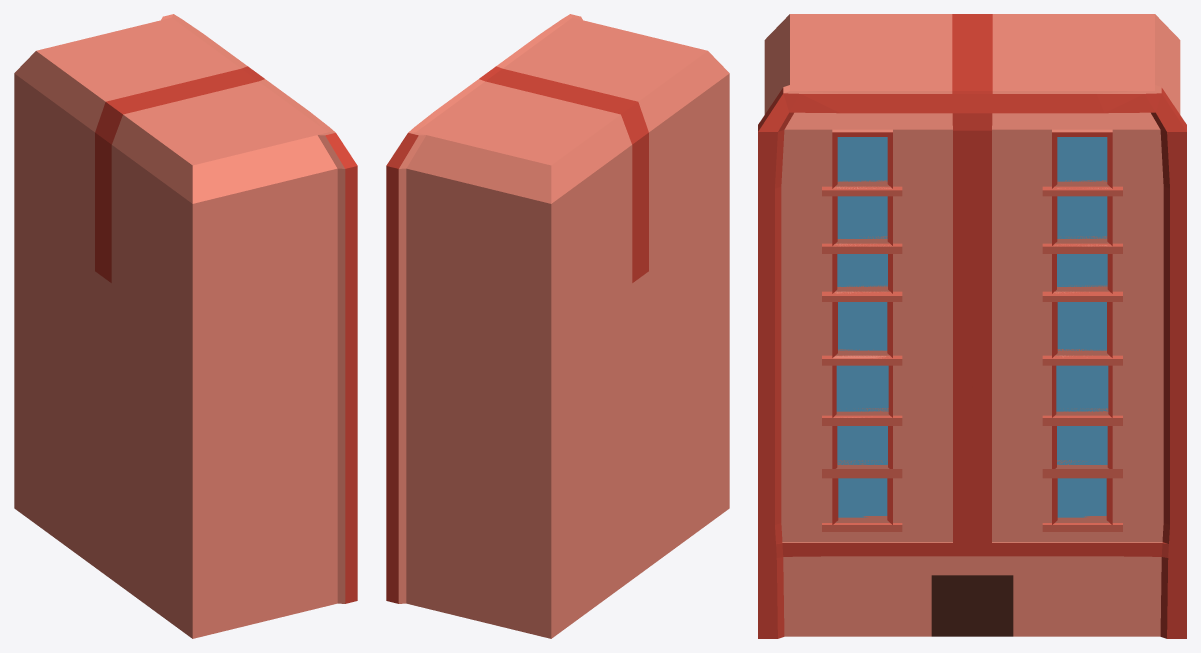
File: red building.fbx
The picture shows the model from 3 angles, left to right: view 1: azimuth 30°, elevation 25°; view 2: azimuth 150°, elevation 25°; view 3: azimuth 270°, elevation 25°; orthographic projection. The views are drawn at different scales.
Parts seen in each view (by area): view 1: Cube; view 2: Cube; view 3: Cube.
Part boxes in pixels (x1,y1,x2,y2): Cube: (14, 14, 357, 638); Cube: (386, 14, 729, 638); Cube: (758, 14, 1186, 638).
Bounding box in the file's own units: 3724 × 9377 × 6744.
